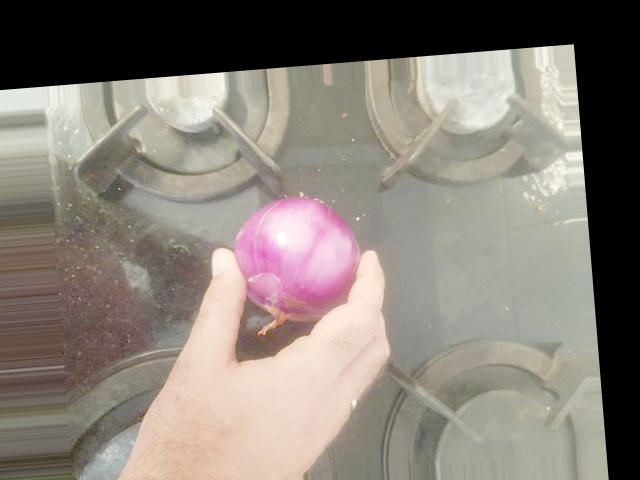onion: (337, 120, 464, 254)
